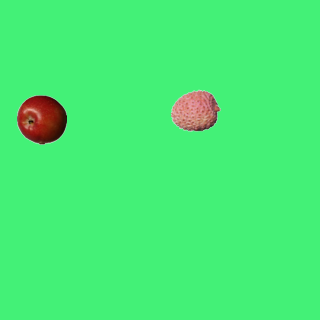Apple Braeburn: (16, 94, 66, 144)
Lychee: (170, 85, 220, 135)
